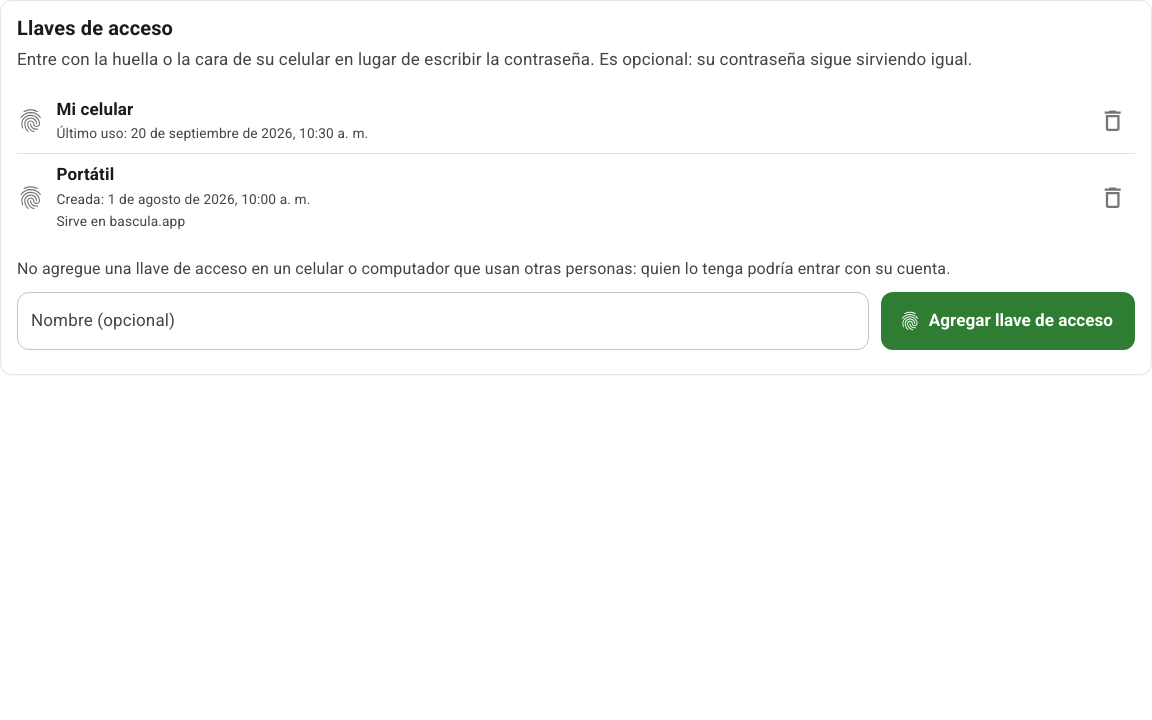
Test case: PasskeysCard — removing › says why when a passkey cannot be removed, and keeps it
Click the button named "Quitar Mi celular": [1113, 121] box [1091,99,1135,143]
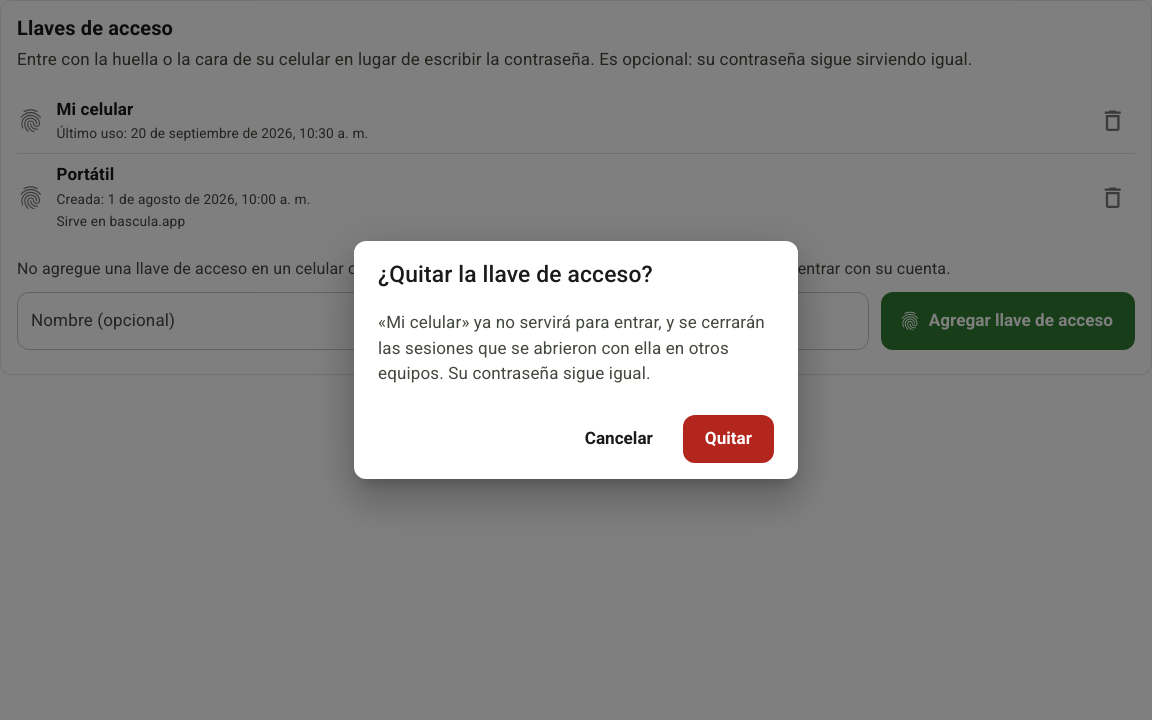
Check: the dialog shows "«Mi celular» ya no servirá para entrar", box [378,312,765,383]
Click the button "Quitar": [728, 438] box [683,414,774,462]
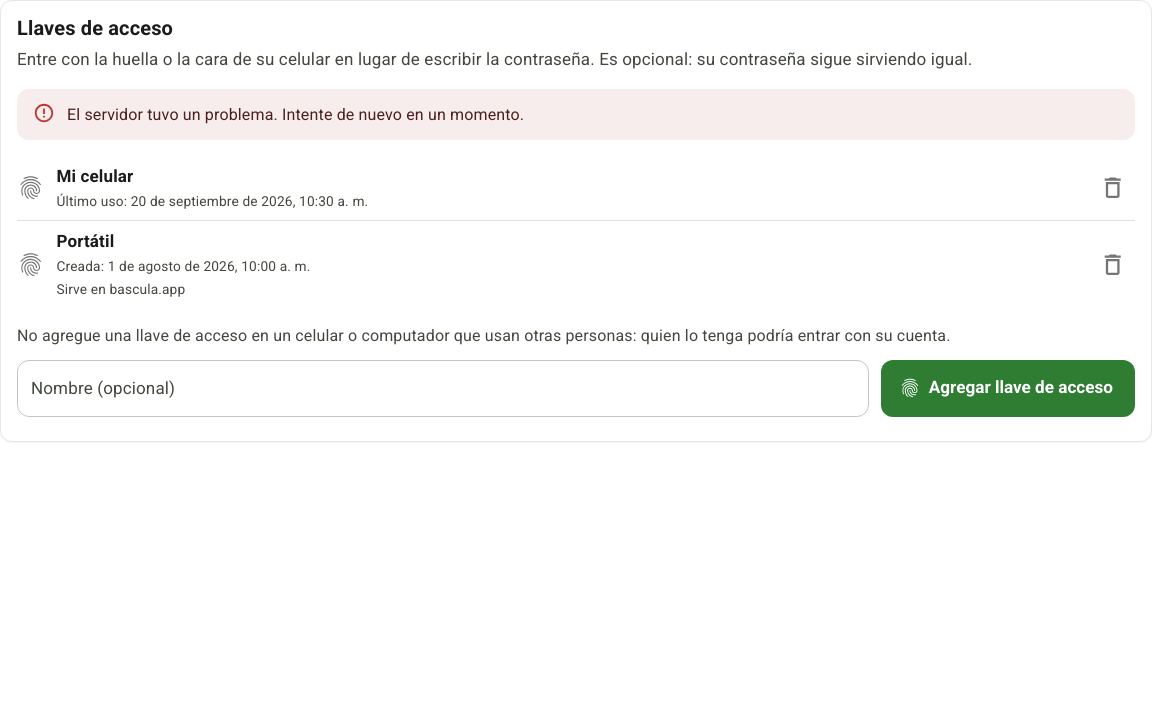
Check: the text "Mi celular" is shown, box [56,166,133,186]
Check: the message "El servidor tuvo un problema. Intente de nuevo en un momento." is shown, box [17,89,1135,140]
Check: the dialog is gone
